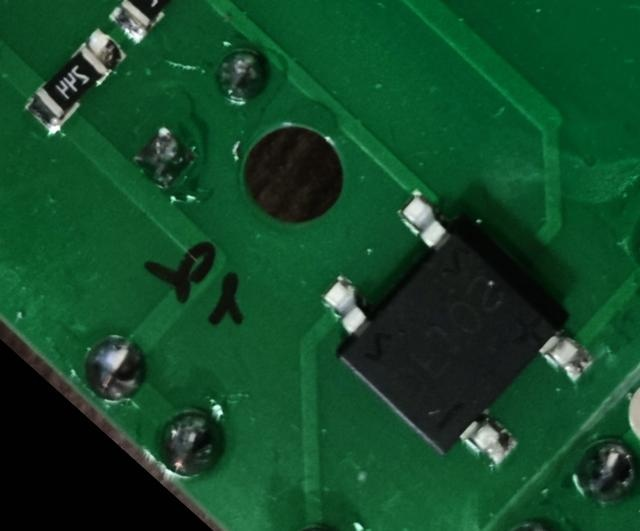chip-resistor: (17, 21, 131, 139)
ic: (284, 169, 616, 497)
